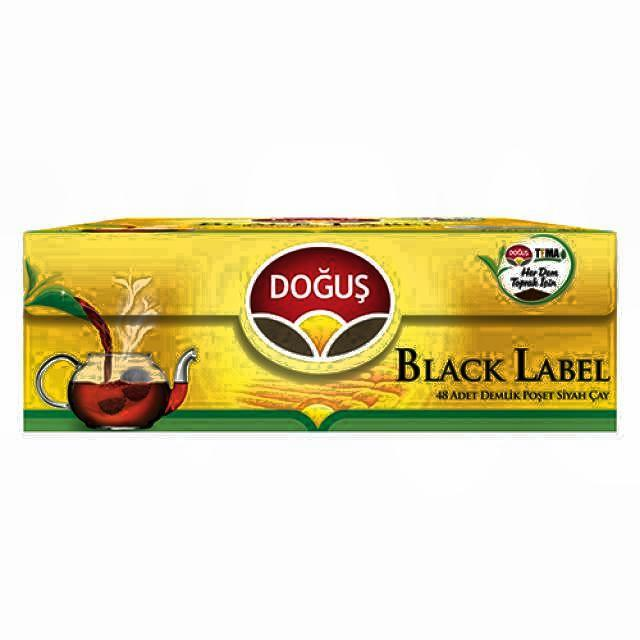plastic: (22, 214, 620, 435)
